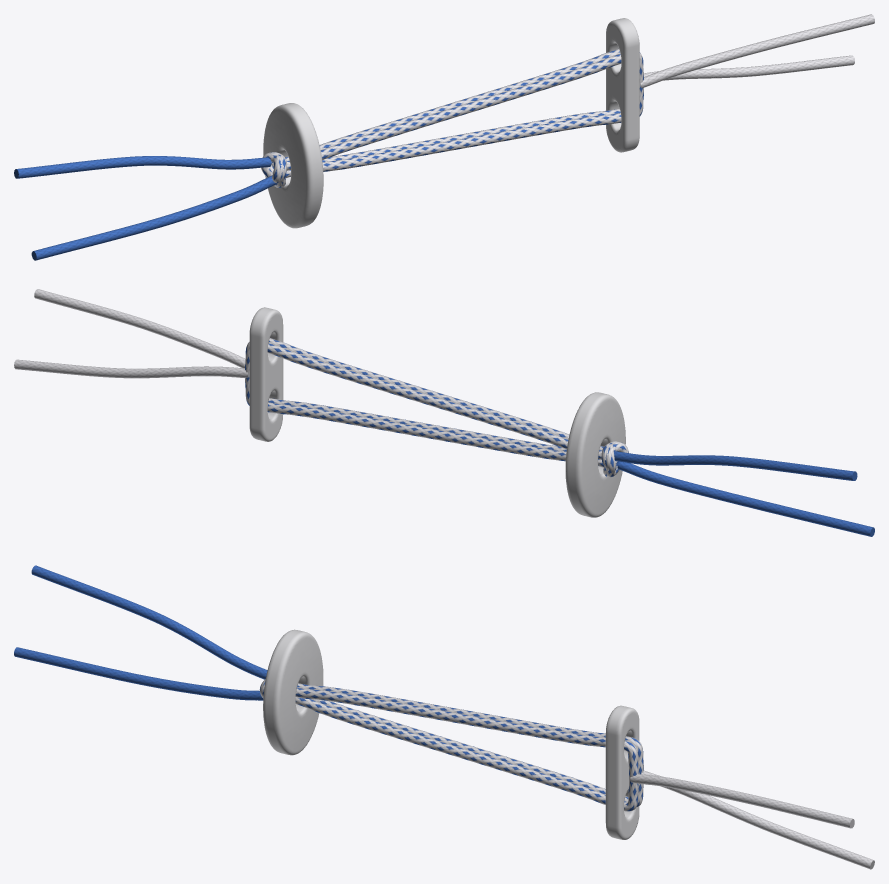
Rendered from c-wingbutton-ac.glb.
3 views of the same model, one above another, from view 1: azimuth 30°, elevation 25°; view 2: azimuth 150°, elevation 25°; view 3: azimuth 330°, elevation 25° (orthographic).
Parts seen in each view (by area): view 1: cwingbutton; view 2: cwingbutton; view 3: cwingbutton.
Boxes of the visible parts, x1=… form: cwingbutton: x1=14, y1=14, x2=874, y2=260; cwingbutton: x1=14, y1=289, x2=874, y2=536; cwingbutton: x1=14, y1=565, x2=874, y2=869.
Bounding box in the file's own units: 0.0815 × 0.012 × 0.00799.
Materials: 4 (3 with a texture image).
